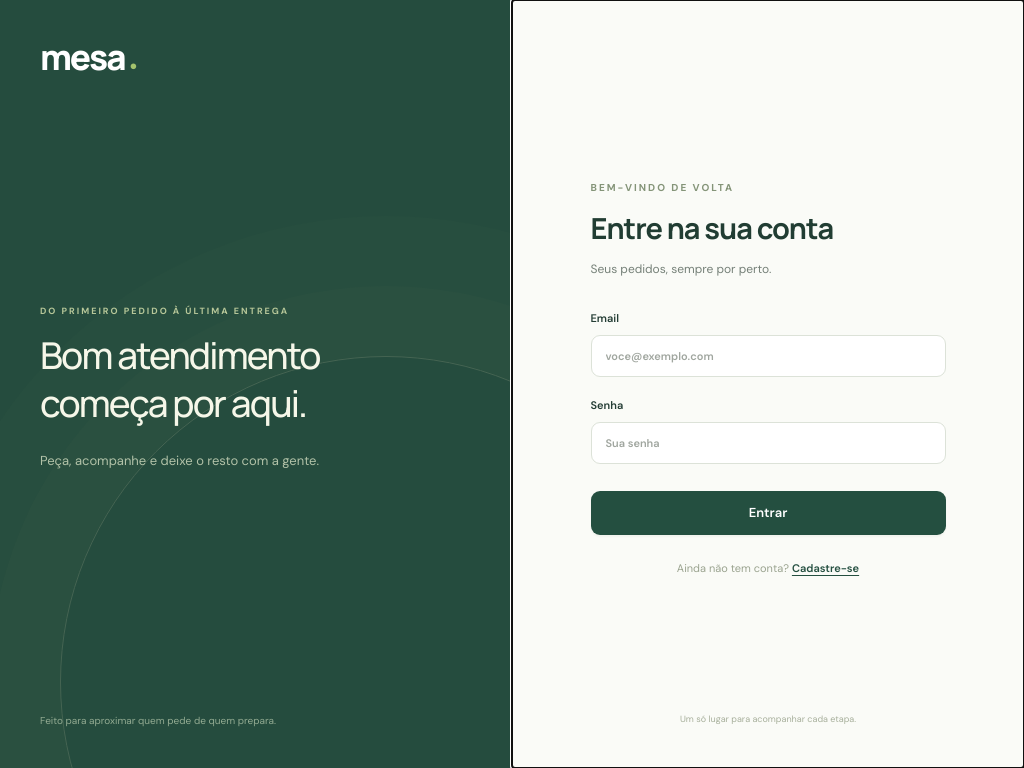
Test: refreshes a changed order after cancellation conflict
The image size is (1024, 768).
In the field labelled "Email": (768, 356) [590,335,946,377], type "ana@example.com"
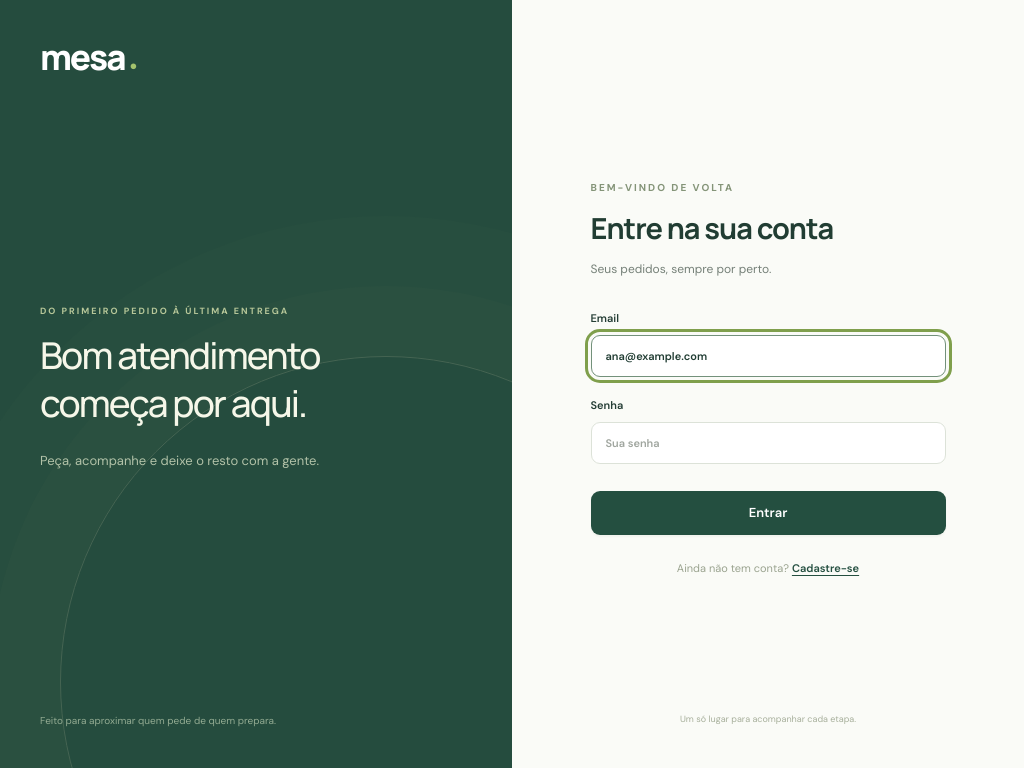
In the password field labelled "Senha": (768, 443) [590,422,946,464], type "senha"
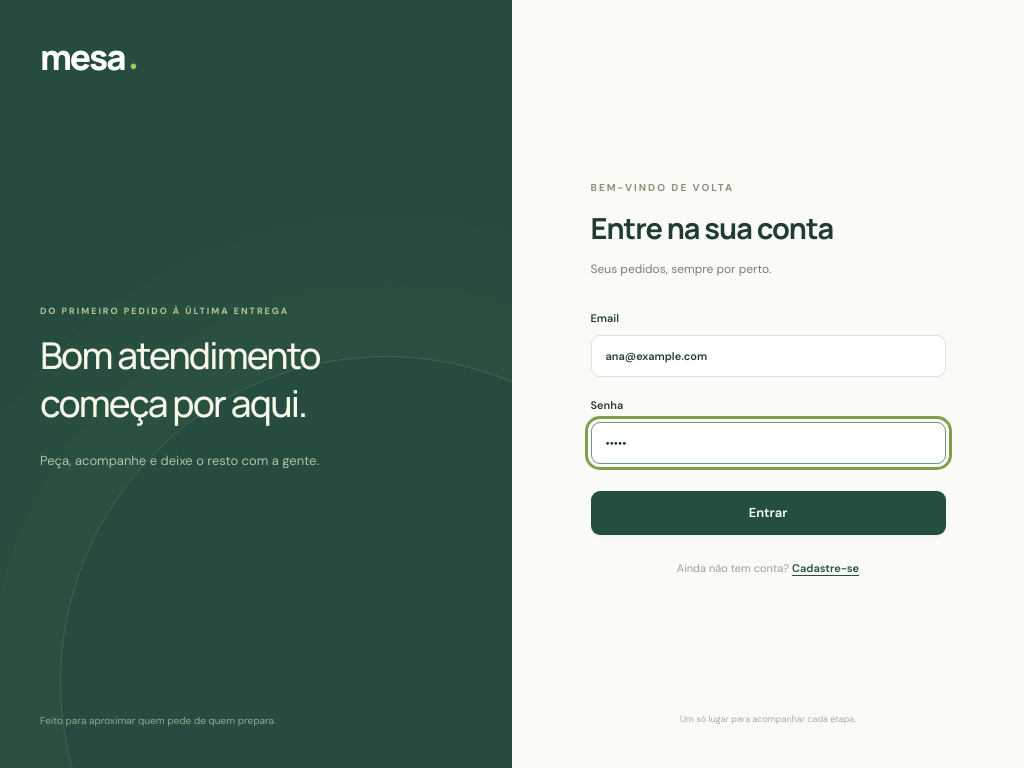
Click the button "Entrar": (768, 513) [590,491,946,535]
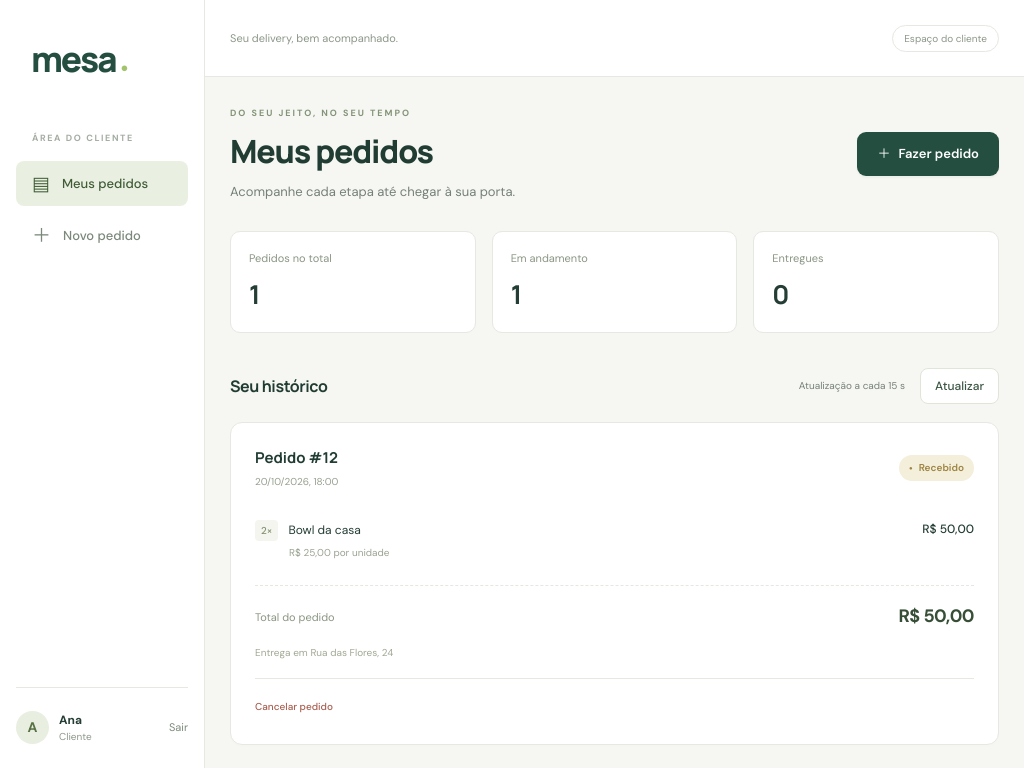
Now the heading "Pedido #12" is shown, box [255,447,338,469]
Click the button "Cancelar pedido": (294, 707) [255,693,333,720]
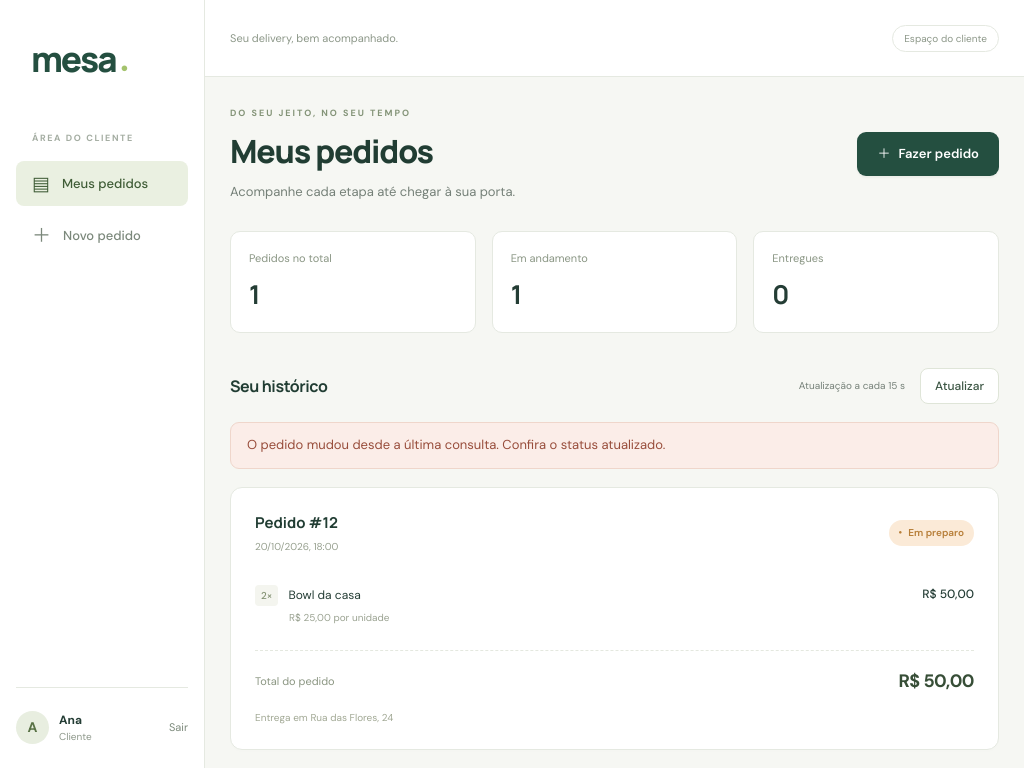
Now the message shows "mudou", box [247,436,665,453]
Now the text "Em preparo" is shown, box [908,526,964,539]
Now the button "Cancelar pedido" is gone
